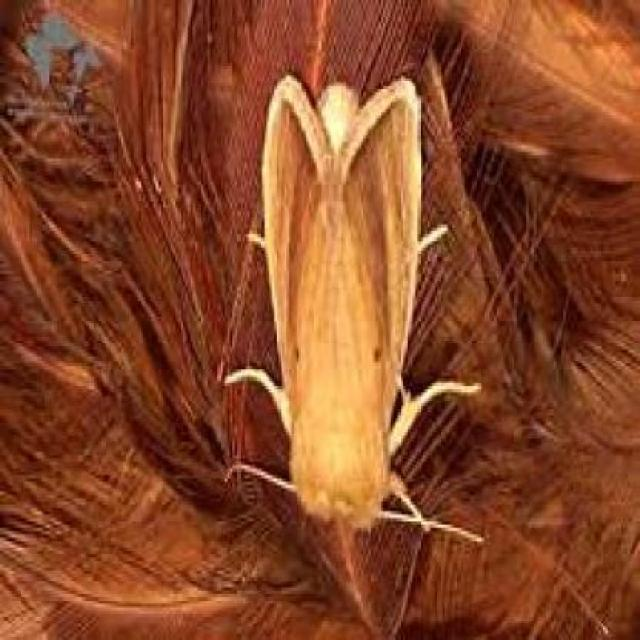stem-borer: (245, 63, 426, 542)
